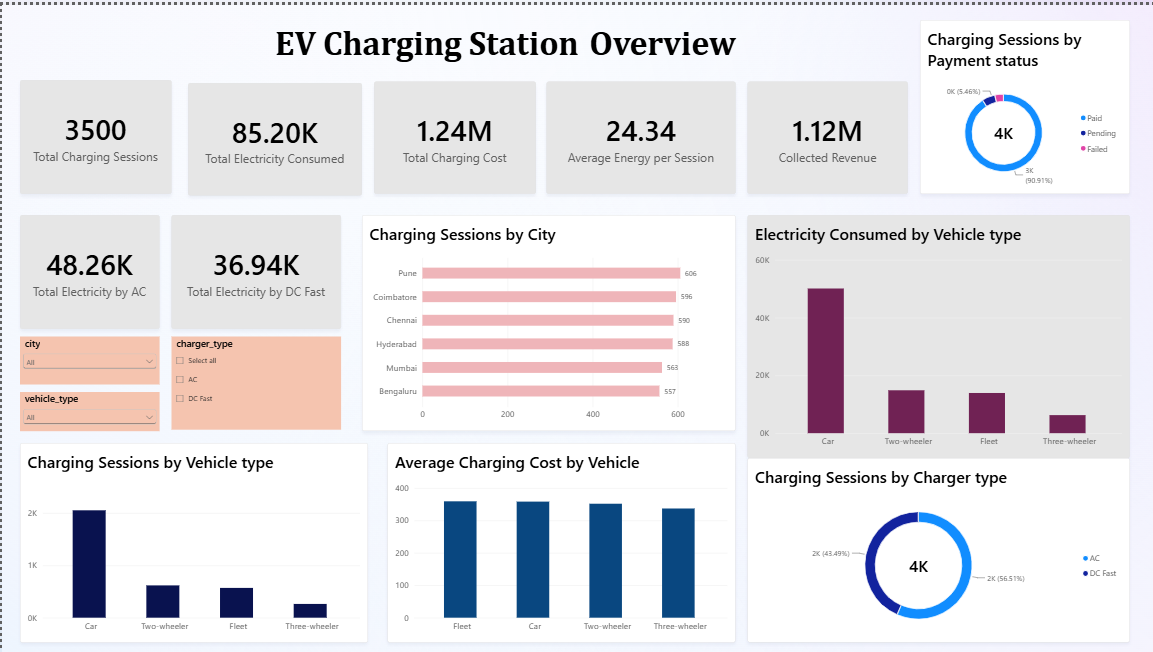

What the dashboard file says about the page in this screenshot:
{"tool":"powerbi","page":{"name":"EV Charging overview","canvas":[1920,1080],"ordinal":0},"visuals":[{"type":"card","fields":{"Values":["ev_charging_sessions.total charging sessions"]},"box":[30,125,252.5,190],"z":0},{"type":"card","fields":{"Values":["ev_charging_sessions.Total Electricity Consumed"]},"box":[310,130,290,187.5],"z":1},{"type":"card","fields":{"Values":["ev_charging_sessions.Total Charging Cost"]},"box":[620,127.5,270,187.5],"z":2},{"type":"card","fields":{"Values":["ev_charging_sessions.Collected Revenue"]},"box":[1242.5,127.5,267.5,187.5],"z":3},{"type":"card","fields":{"Values":["ev_charging_sessions.Total Electricity by DC Fast"]},"box":[282.5,350,282.5,190],"z":4},{"type":"card","fields":{"Values":["ev_charging_sessions.Total Electricity by AC"]},"box":[30,350,232.5,190],"z":5},{"type":"columnChart","title":" Charging Sessions by Vehicle type","fields":{"Category":["ev_charging_sessions.vehicle_type"],"Y":["ev_charging_sessions.Total Charging Sessions"]},"box":[30,730,580,332.5],"z":6},{"type":"clusteredColumnChart","title":"Electricity Consumed by Vehicle type","fields":{"Category":["ev_charging_sessions.vehicle_type"],"Y":["ev_charging_sessions.Total Electricity Consumed"]},"box":[1242.5,350,637.5,405],"z":7},{"type":"card","fields":{"Values":["ev_charging_sessions.Average Energy per Session"]},"box":[907.5,127.5,315,187.5],"z":8},{"type":"clusteredColumnChart","title":"Average Charging Cost by Vehicle ","fields":{"Category":["ev_charging_sessions.vehicle_type"],"Y":["ev_charging_sessions.Average Charging Cost"]},"box":[642.5,730,580,332.5],"z":9},{"type":"donutChart","title":"Charging Sessions by Charger type","fields":{"Category":["ev_charging_sessions.charger_type"],"Y":["ev_charging_sessions.Total Charging Sessions"]},"box":[1242.5,755,637.5,307.5],"z":10},{"type":"donutChart","title":"Charging Sessions by Payment status","fields":{"Category":["ev_charging_sessions.payment_status"],"Y":["ev_charging_sessions.Total Charging Sessions"]},"box":[1530,25,350,290],"z":11},{"type":"clusteredBarChart","title":"Charging Sessions by City","fields":{"Category":["ev_charging_stations.city"],"Y":["ev_charging_sessions.Total Charging Sessions"]},"box":[600,350,622.5,360],"z":13},{"type":"textbox","box":[455,25,895,102.5],"z":14},{"type":"slicer","fields":{"Values":["ev_charging_stations.city"]},"box":[30,552.5,232.5,80],"z":15},{"type":"slicer","fields":{"Values":["ev_charging_sessions.vehicle_type"]},"box":[30,645,232.5,65],"z":16},{"type":"slicer","fields":{"Values":["ev_charging_sessions.charger_type"]},"box":[282.5,552.5,282.5,155],"z":17}]}

Visuals, with their boxes in screenshot pixels (x1, y1, x2, y2), scaled from the page's 1920x1080 canvas onto the 1153x652 screenshot:
card - ev_charging_sessions.total charging sessions: left=18, top=75, right=170, bottom=190
card - ev_charging_sessions.Total Electricity Consumed: left=186, top=78, right=360, bottom=192
card - ev_charging_sessions.Total Charging Cost: left=372, top=77, right=534, bottom=190
card - ev_charging_sessions.Collected Revenue: left=746, top=77, right=907, bottom=190
card - ev_charging_sessions.Total Electricity by DC Fast: left=170, top=211, right=339, bottom=326
card - ev_charging_sessions.Total Electricity by AC: left=18, top=211, right=158, bottom=326
" Charging Sessions by Vehicle type" columnChart: left=18, top=441, right=366, bottom=641
"Electricity Consumed by Vehicle type" clusteredColumnChart: left=746, top=211, right=1129, bottom=456
card - ev_charging_sessions.Average Energy per Session: left=545, top=77, right=734, bottom=190
"Average Charging Cost by Vehicle " clusteredColumnChart: left=386, top=441, right=734, bottom=641
"Charging Sessions by Charger type" donutChart: left=746, top=456, right=1129, bottom=641
"Charging Sessions by Payment status" donutChart: left=919, top=15, right=1129, bottom=190
"Charging Sessions by City" clusteredBarChart: left=360, top=211, right=734, bottom=429
textbox: left=273, top=15, right=811, bottom=77
slicer - ev_charging_stations.city: left=18, top=334, right=158, bottom=382
slicer - ev_charging_sessions.vehicle_type: left=18, top=389, right=158, bottom=429
slicer - ev_charging_sessions.charger_type: left=170, top=334, right=339, bottom=427
